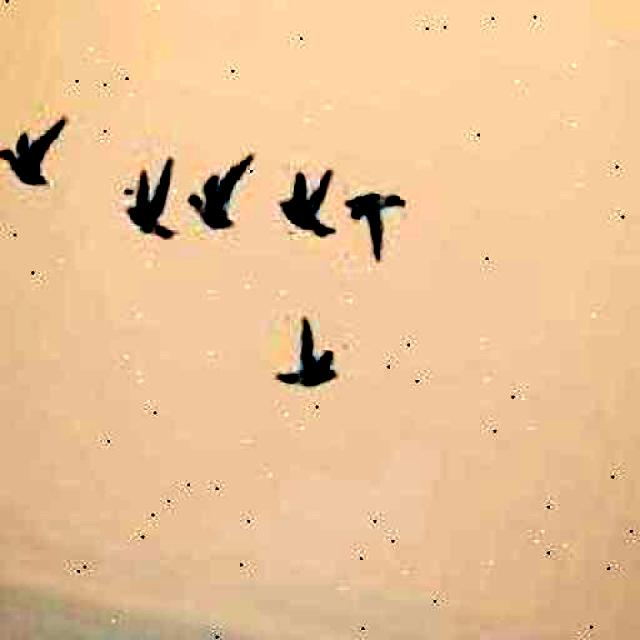airplane: (174, 136, 254, 234), (116, 149, 196, 242), (331, 182, 408, 265), (272, 312, 349, 395), (272, 159, 349, 241), (0, 100, 68, 190)
